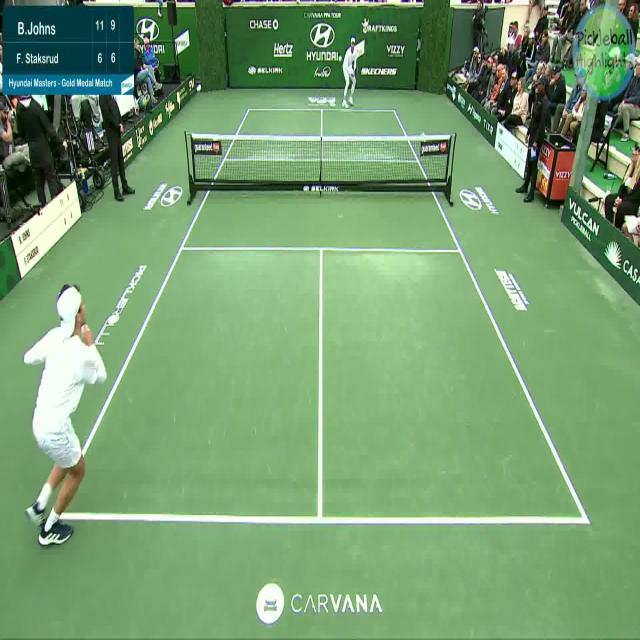Court: (55, 108, 588, 525)
